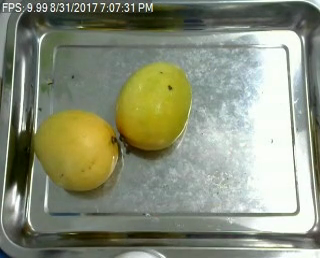Mango: (35, 106, 119, 189), (116, 62, 192, 150)
